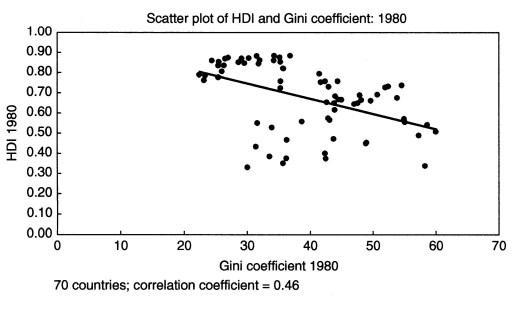axis: (53, 228, 502, 238), (52, 30, 63, 236)
point: (213, 73, 222, 81), (207, 57, 215, 64), (225, 53, 232, 61), (245, 54, 252, 62), (195, 71, 202, 78), (201, 71, 208, 78), (220, 62, 227, 69), (221, 55, 228, 62), (200, 78, 208, 84), (242, 60, 248, 68), (216, 58, 223, 64), (233, 59, 240, 65), (238, 54, 245, 60), (218, 69, 226, 74), (214, 63, 220, 69)
